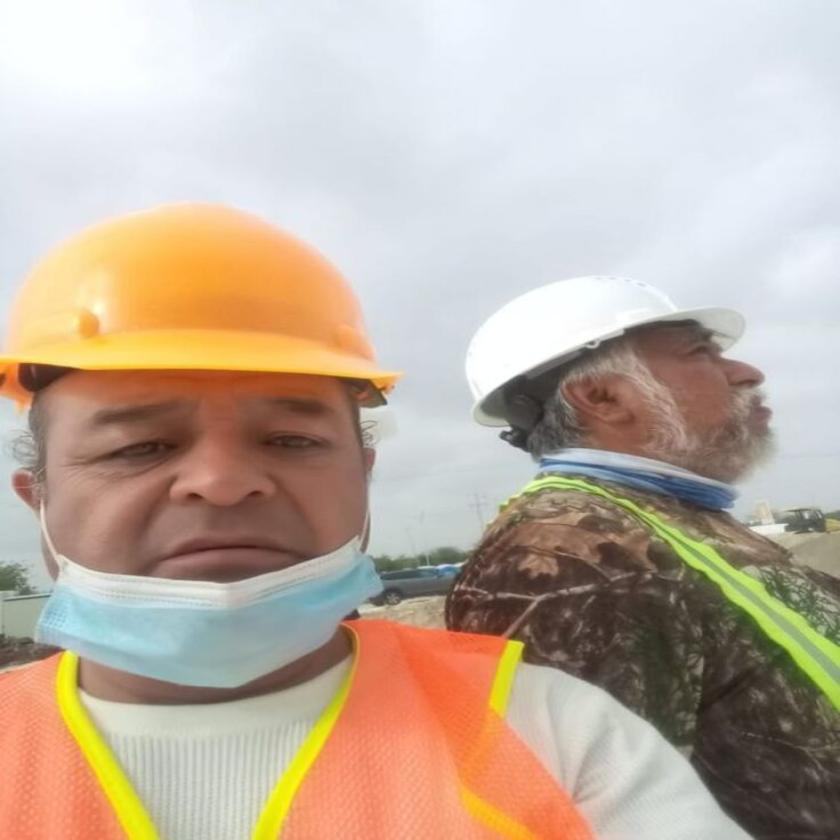Con_casco: (0, 197, 398, 701), (478, 266, 804, 518)
